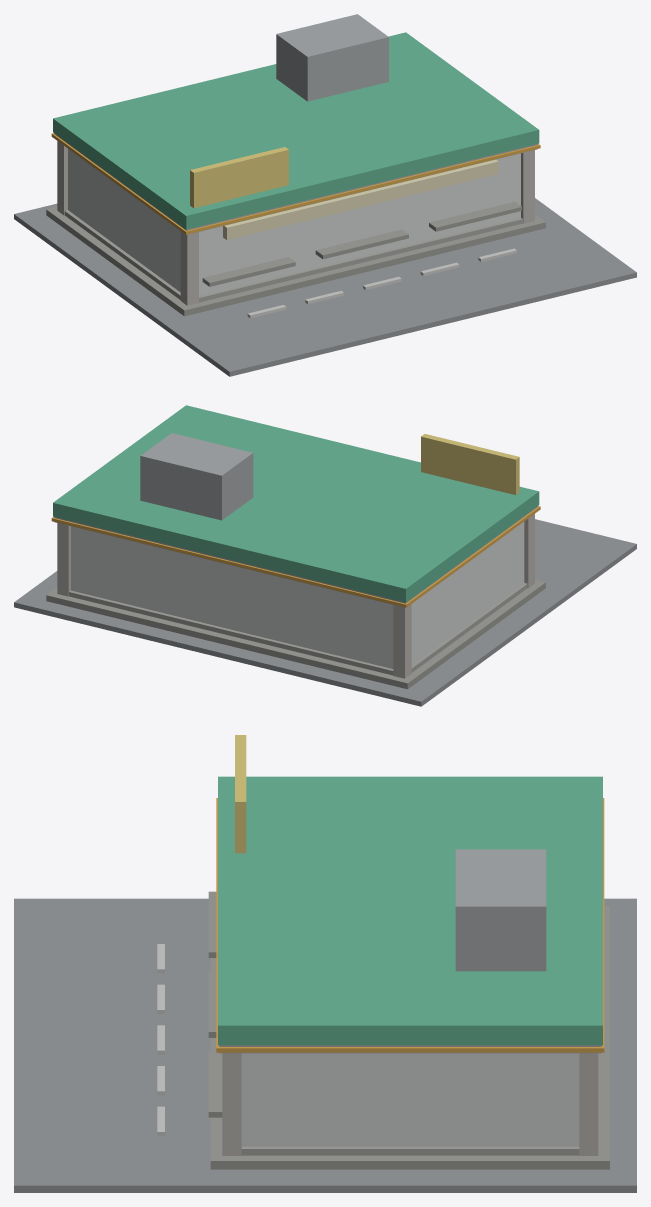
The picture shows the model from 3 angles, top to bottom: view 1: azimuth 30°, elevation 25°; view 2: azimuth 150°, elevation 25°; view 3: azimuth 270°, elevation 25°; orthographic projection. The views are drawn at different scales.
Visible parts, largest first — view 1: Visual; view 2: Visual; view 3: Visual.
Part boxes in pixels (bbox=[...]): Visual: bbox=[14, 14, 636, 376]; Visual: bbox=[14, 405, 636, 706]; Visual: bbox=[14, 735, 636, 1192].
Bounding box in the file's own units: 48 × 17.08 × 44.
